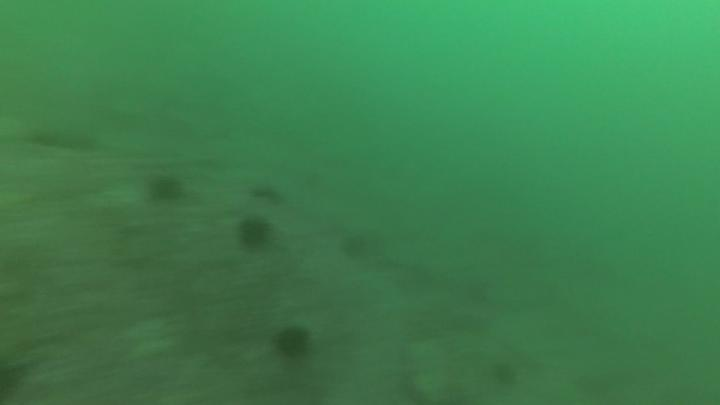echinus: (241, 217, 269, 252), (277, 325, 308, 355), (150, 179, 179, 203)
